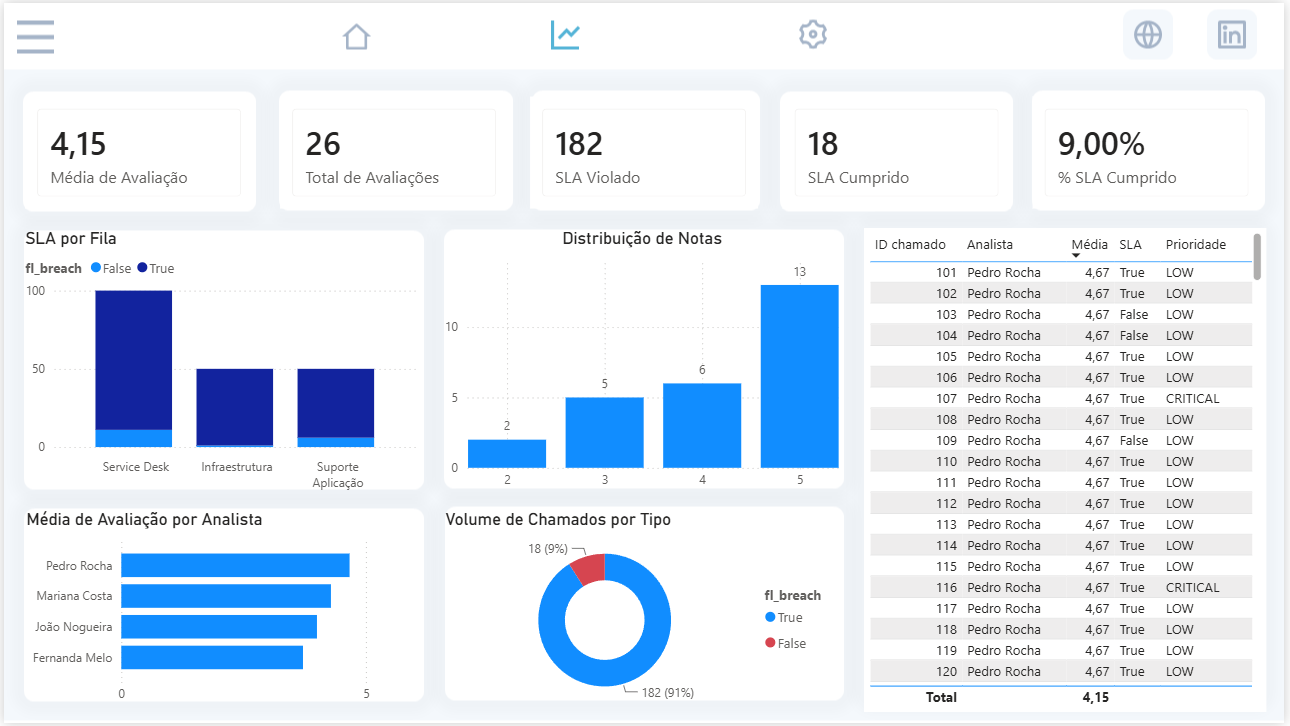

What the dashboard file says about the page in this screenshot:
{"tool":"powerbi","page":{"name":"Qualidade e SLA","canvas":[1280,720],"ordinal":1},"visuals":[{"type":"clusteredColumnChart","title":"Distribuição de Notas","fields":{"Category":["itsm csat_avaliacao.nr_score"],"Y":["CountNonNull(itsm csat_avaliacao.id_csat_avaliacao)"]},"box":[436.2,225,403.8,270],"z":0},{"type":"cardVisual","fields":{"Data":["Avg(itsm csat_avaliacao.nr_score)"]},"box":[16.2,88.8,238.8,122.5],"z":1000},{"type":"cardVisual","fields":{"Data":["CountNonNull(itsm chamado_sla.id_chamado_sla)"]},"box":[521.2,88.8,238.8,122.5],"z":2000},{"type":"cardVisual","fields":{"Data":["CountNonNull(itsm csat_avaliacao.id_csat_avaliacao)"]},"box":[271.2,88.8,238.8,122.5],"z":3000},{"type":"cardVisual","fields":{"Data":["CountNonNull(itsm chamado_sla.id_chamado_sla)"]},"box":[773.8,88.8,238.8,122.5],"z":4000},{"type":"cardVisual","fields":{"Data":["itsm chamado_sla.% SLA Cumprido"]},"box":[1023.8,88.8,238.8,122.5],"z":5000},{"type":"clusteredBarChart","title":"Média de Avaliação por Analista","fields":{"Y":["Avg(itsm csat_avaliacao.nr_score)"],"Category":["itsm analista.nm_analista"]},"box":[17.5,506.2,402.5,202.5],"z":6000},{"type":"columnChart","title":"SLA por Fila","fields":{"Category":["itsm fila.nm_fila"],"Y":["Count(itsm chamado_sla.id_chamado_sla)"],"Series":["itsm chamado_sla.fl_breach"]},"box":[16.2,225,403.8,270],"z":7000},{"type":"donutChart","title":"Volume de Chamados por Tipo","fields":{"Category":["itsm chamado_sla.fl_breach"],"Y":["Count(itsm chamado_sla.id_chamado_sla)"]},"box":[435.7,505.7,404.3,202.9],"z":8000},{"type":"tableEx","fields":{"Values":["itsm chamado.id_chamado","itsm analista.nm_analista","Avg(itsm csat_avaliacao.nr_score)","itsm chamado_sla.fl_breach","itsm chamado.ds_prioridade"]},"box":[860,225,402.5,483.8],"z":8001}]}

Visuals, with their boxes on the page's 1280x720 design canvas (x1, y1, x2, y2). These are canvas units, not pixel positions in the 1290x726 screenshot, which may show the page scaled, cropped or inside an application window:
"Distribuição de Notas" clusteredColumnChart: left=436, top=225, right=840, bottom=495
cardVisual - Avg(itsm csat_avaliacao.nr_score): left=16, top=89, right=255, bottom=211
cardVisual - CountNonNull(itsm chamado_sla.id_chamado_sla): left=521, top=89, right=760, bottom=211
cardVisual - CountNonNull(itsm csat_avaliacao.id_csat_avaliacao): left=271, top=89, right=510, bottom=211
cardVisual - CountNonNull(itsm chamado_sla.id_chamado_sla): left=774, top=89, right=1013, bottom=211
cardVisual - itsm chamado_sla.% SLA Cumprido: left=1024, top=89, right=1263, bottom=211
"Média de Avaliação por Analista" clusteredBarChart: left=18, top=506, right=420, bottom=709
"SLA por Fila" columnChart: left=16, top=225, right=420, bottom=495
"Volume de Chamados por Tipo" donutChart: left=436, top=506, right=840, bottom=709
tableEx - itsm chamado.id_chamado x itsm analista.nm_analista: left=860, top=225, right=1262, bottom=709
